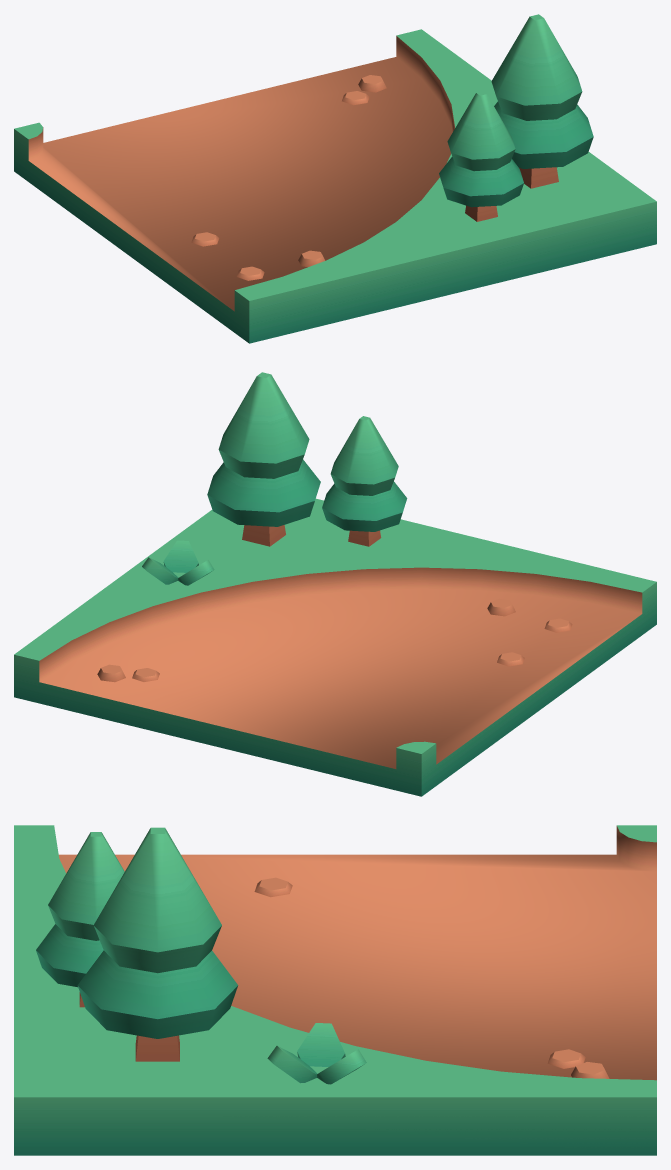
The model's file is kenney-tower-defense-tile-wide-corner.glb.
3 renders of one model, top to bottom at view 1: azimuth 30°, elevation 25°; view 2: azimuth 150°, elevation 25°; view 3: azimuth 270°, elevation 25°, orthographic. The views are drawn at different scales.
Visible parts, largest first — view 1: tile-wide-corner; view 2: tile-wide-corner; view 3: tile-wide-corner.
Boxes of the visible parts, x1,y1,x2,y2 form: tile-wide-corner: [14, 14, 656, 343]; tile-wide-corner: [14, 372, 656, 796]; tile-wide-corner: [14, 825, 656, 1155].
Size of the model in its own units: 2 by 0.9601 by 2.
1 material, 1 textured.
